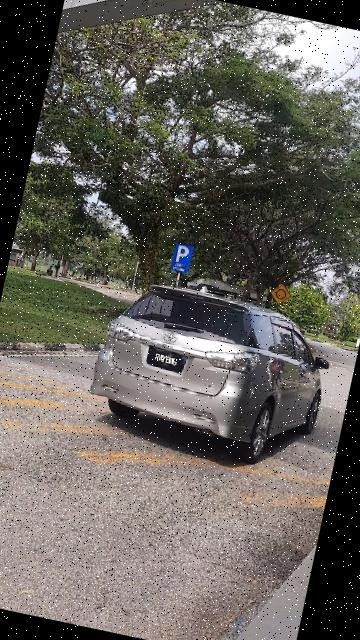License_Plate: (145, 345, 192, 378)
car: (83, 273, 344, 478)
